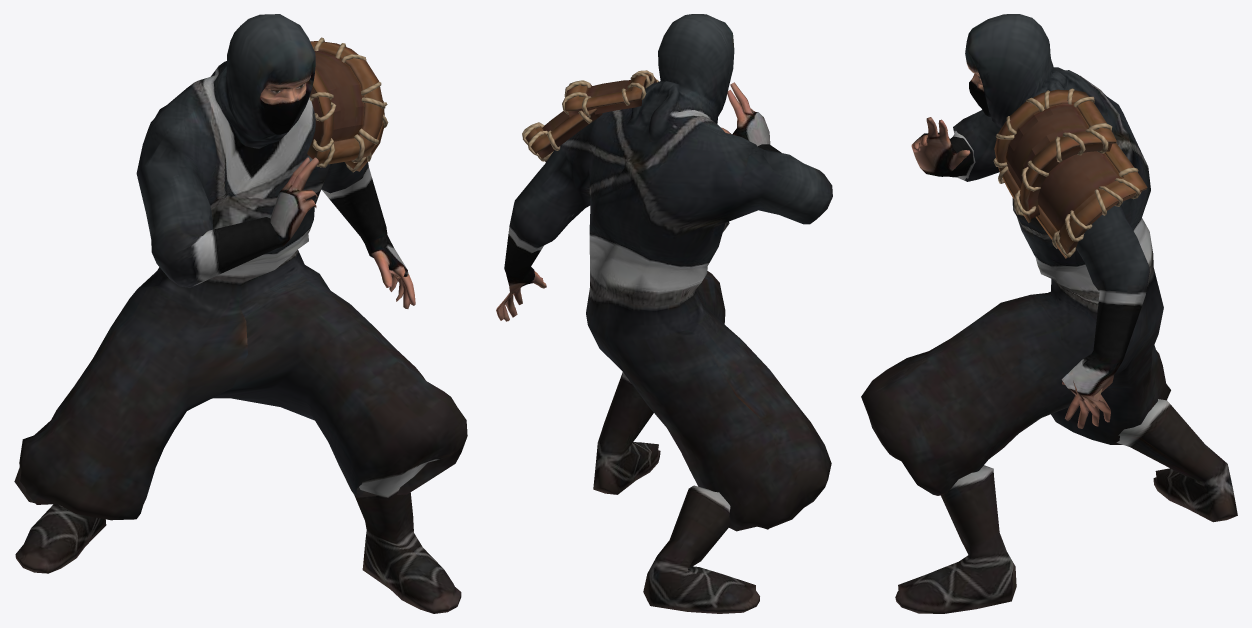
The model's file is body-mediumdojosoldiers.glb.
The picture shows the model from 3 angles, left to right: view 1: azimuth 30°, elevation 25°; view 2: azimuth 150°, elevation 25°; view 3: azimuth 270°, elevation 25°; orthographic projection. The views are drawn at different scales.
Size of the model in its own units: 1.18 by 1.7 by 1.09.
1 material, 1 textured.
